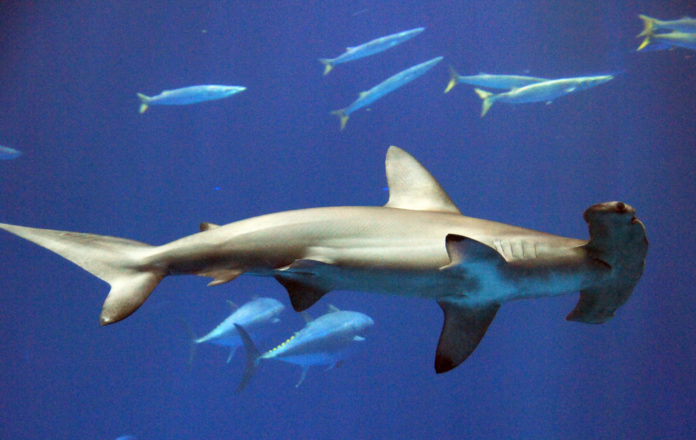Hammer: (10, 162, 695, 393)
